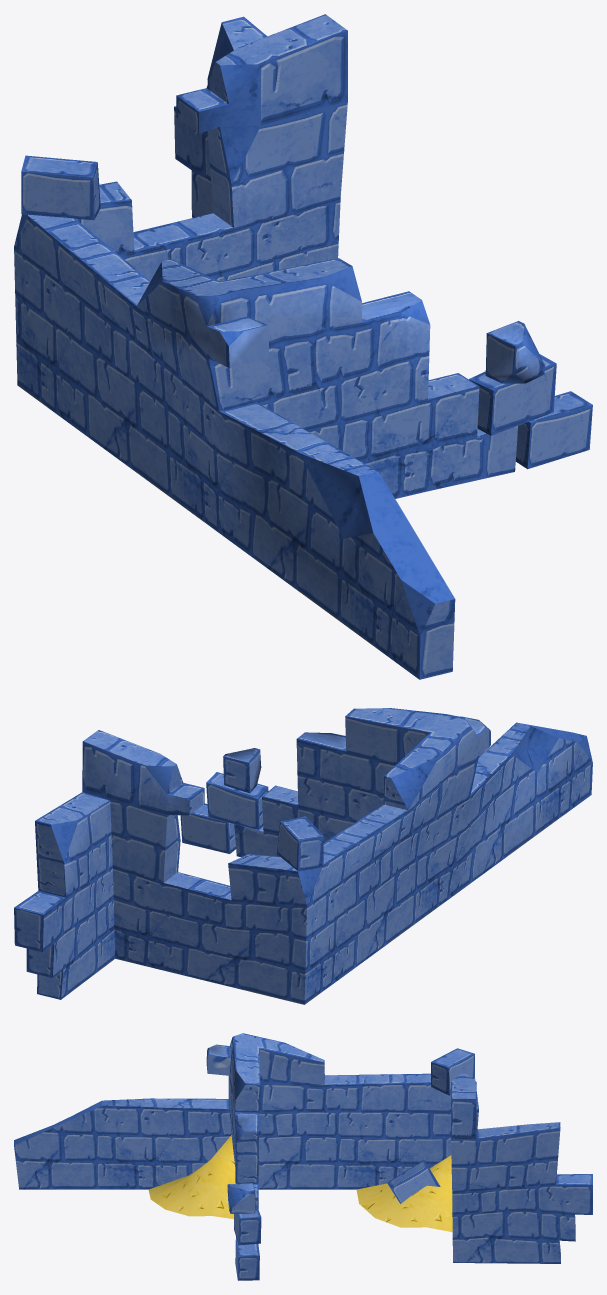
The model's file is Toon_Wall_02.fbx.
The picture shows the model from 3 angles, top to bottom: view 1: azimuth 30°, elevation 25°; view 2: azimuth 150°, elevation 25°; view 3: azimuth 270°, elevation 25°; orthographic projection. The views are drawn at different scales.
Parts seen in each view (by area): view 1: Toon_Wall_02; view 2: Toon_Wall_02; view 3: Toon_Wall_02.
Boxes of the visible parts, left/top/right/bottom form: Toon_Wall_02: left=14, top=14, right=592, bottom=679; Toon_Wall_02: left=14, top=708, right=592, bottom=1004; Toon_Wall_02: left=14, top=1033, right=592, bottom=1280.
Size of the model in its own units: 11.89 by 8.58 by 26.69.
